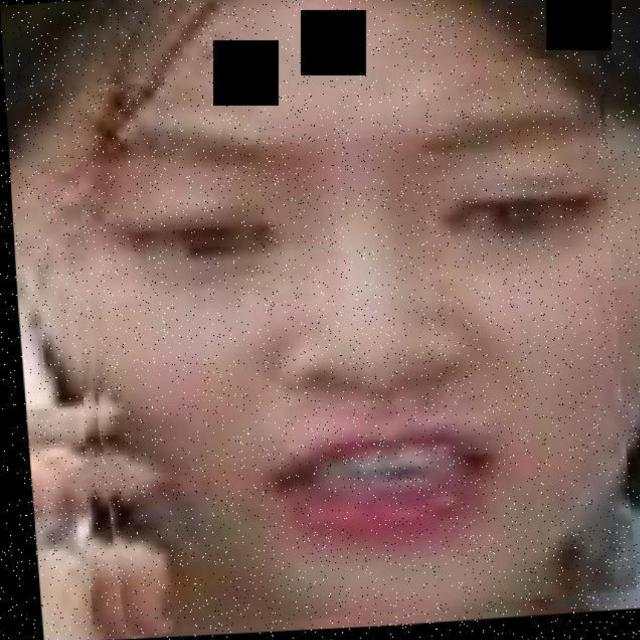Surprised: (53, 105, 640, 640)
